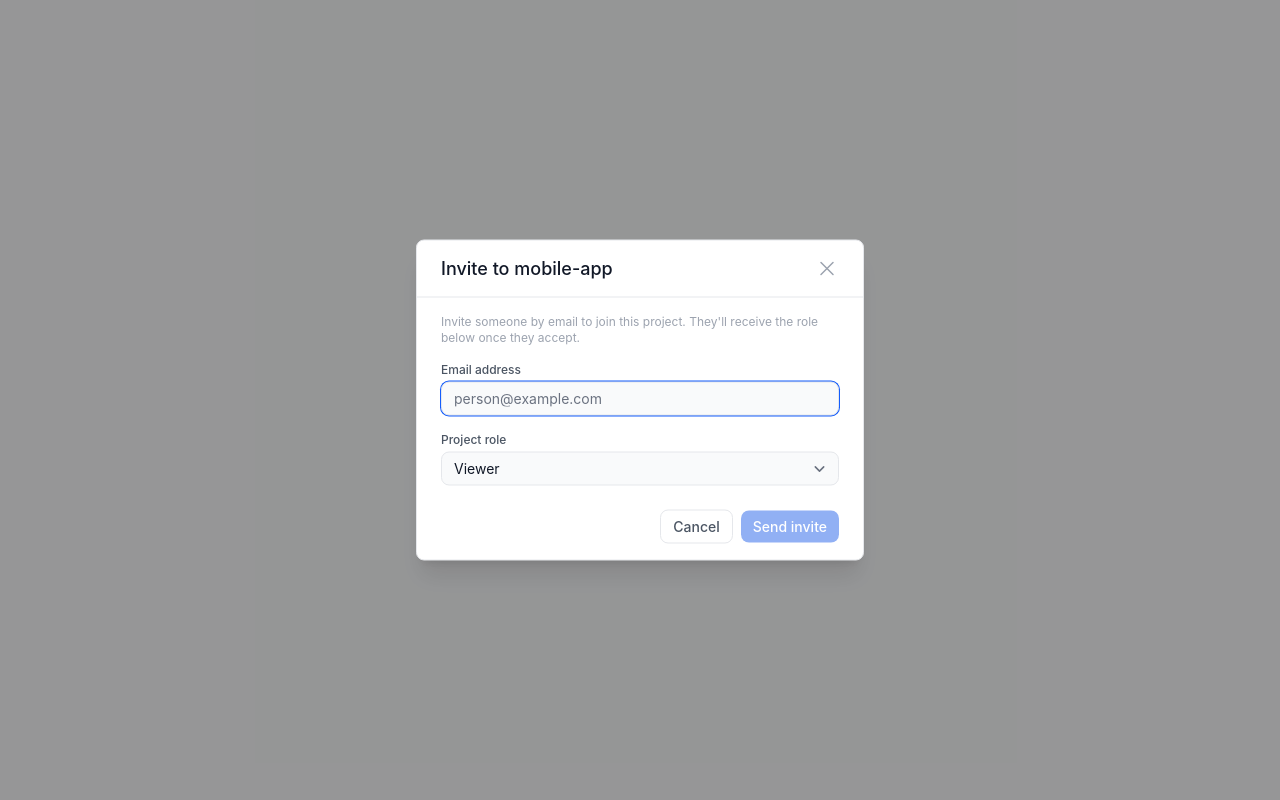
Test: InviteToProjectModal › shows actionable copy when the domain allowlist rejects the invite
In the field with placeholder "person@example.com": (640, 398) [441,382,839,416], type "e@evil.example"
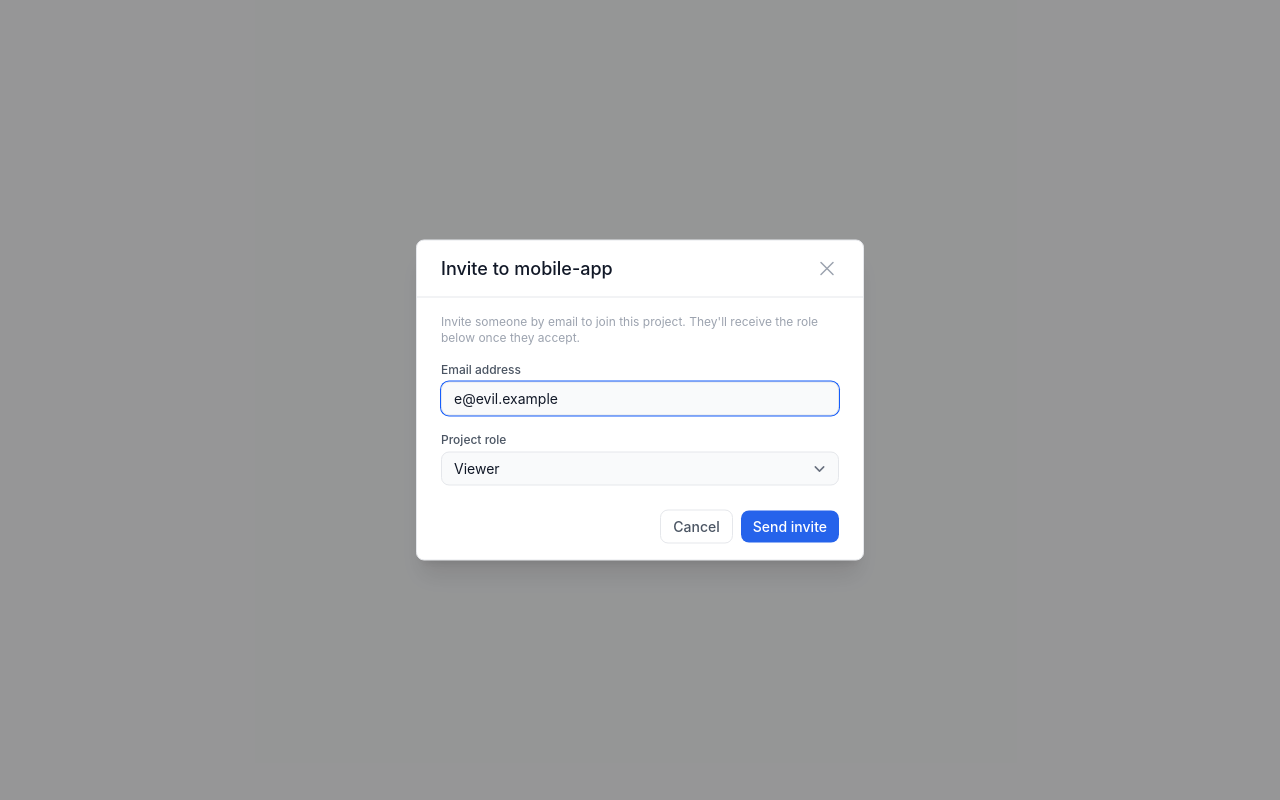
Click the button "Send invite": (790, 526) [741,510,839,542]
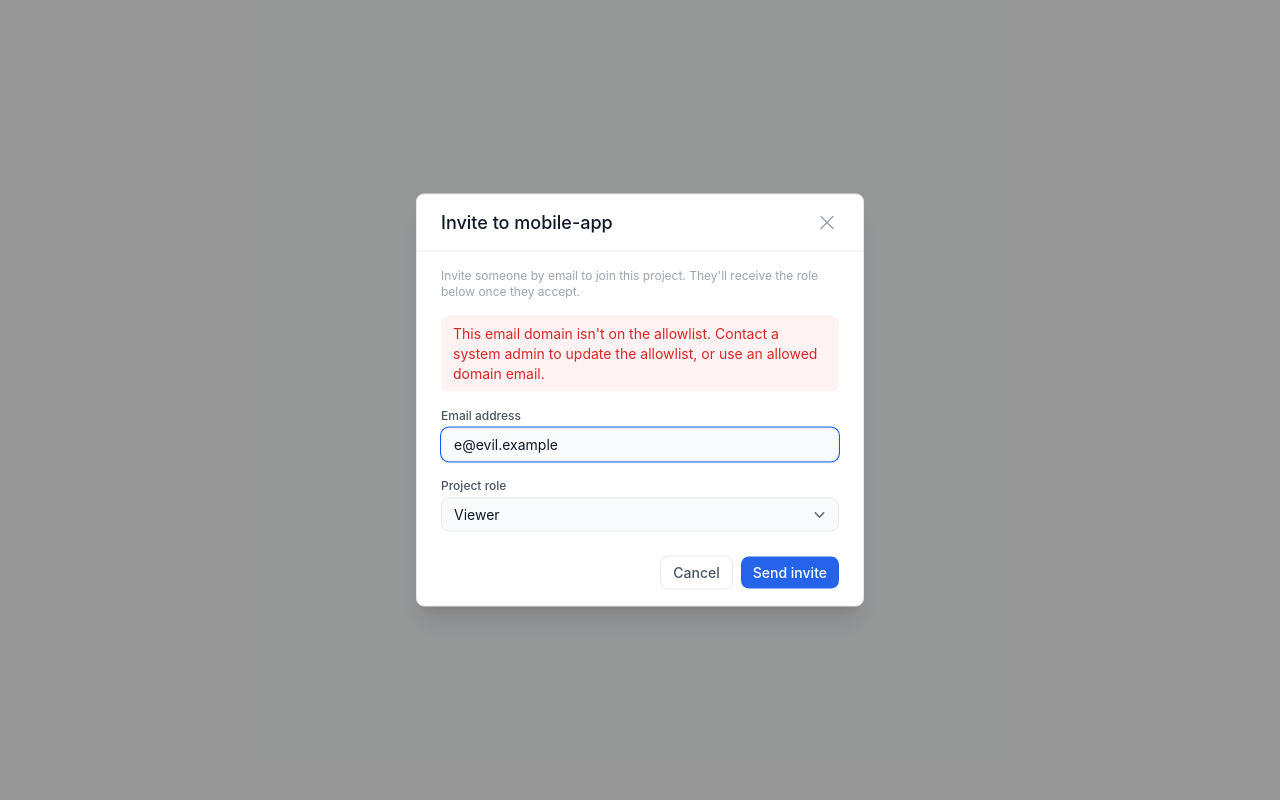
expect the text "contact a system admin to update the allowlist" is shown: met, box [453,324,817,382]
